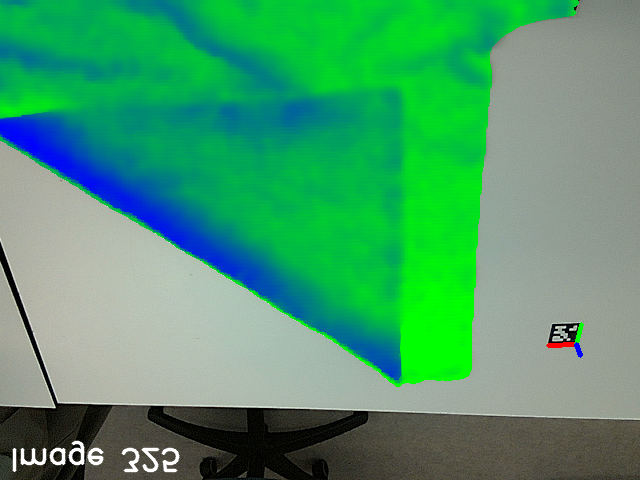V: (336, 72, 415, 147)
